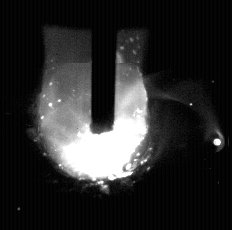arame: (92, 0, 116, 135)
poca: (39, 0, 149, 230)
